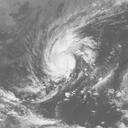cyclone: (41, 29, 80, 81)
